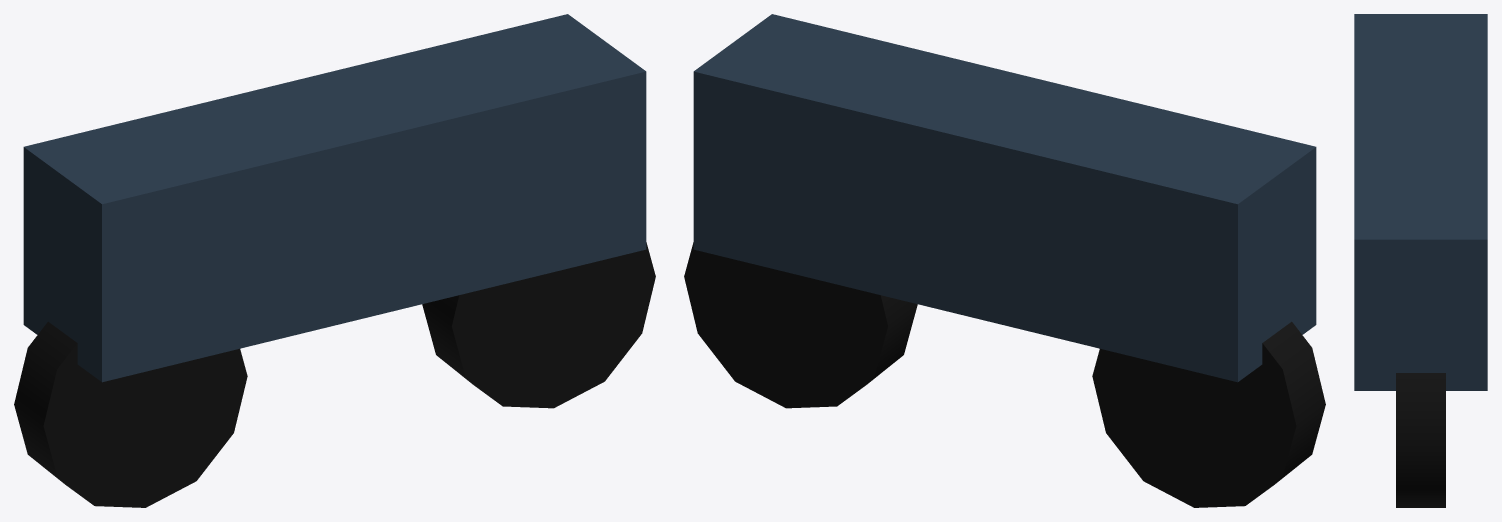
File: motorcycle.glb
3 views of the same model, side by side, from view 1: azimuth 30°, elevation 25°; view 2: azimuth 150°, elevation 25°; view 3: azimuth 270°, elevation 25° (orthographic). The views are drawn at different scales.
Visible parts, largest first — view 1: motorbike; view 2: motorbike; view 3: motorbike.
Boxes of the visible parts, x1,y1,x2,y2 form: motorbike: (14,14,655,507); motorbike: (684,14,1325,507); motorbike: (1354,14,1487,507).
Bounding box in the file's own units: 1.8 × 0.95 × 0.4.
